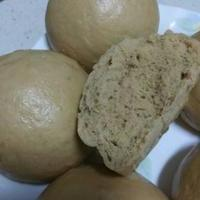biodegradable: (77, 30, 200, 177), (0, 48, 91, 185), (44, 0, 161, 71), (34, 160, 171, 200)
